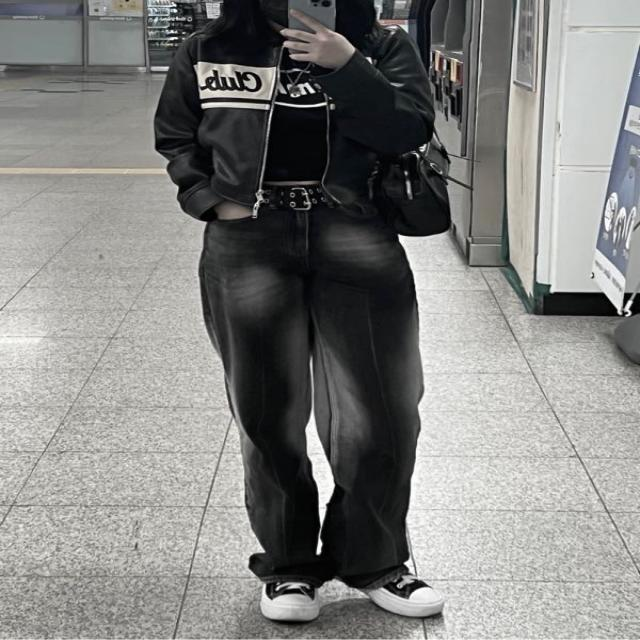denimpants: (198, 216, 426, 588)
jacket: (150, 10, 438, 218)
